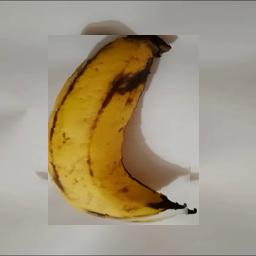Banana Semifresh: (48, 35, 199, 225)
